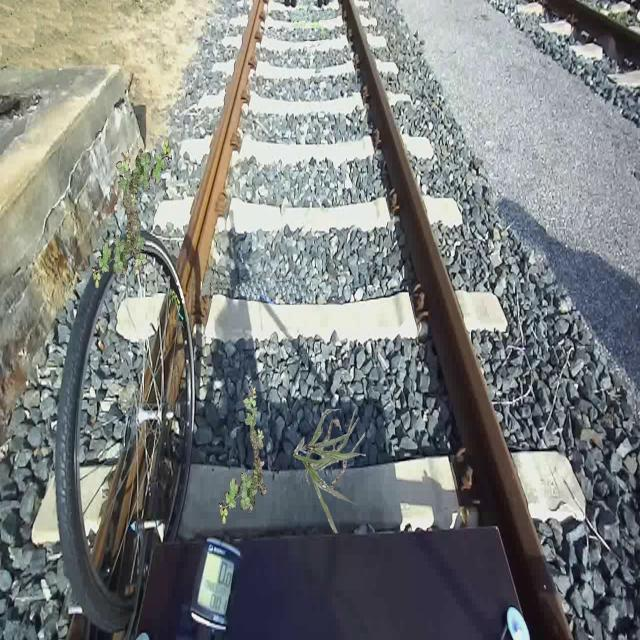Plant: (293, 409, 366, 534), (219, 386, 268, 524), (124, 139, 172, 277), (92, 150, 140, 288)
